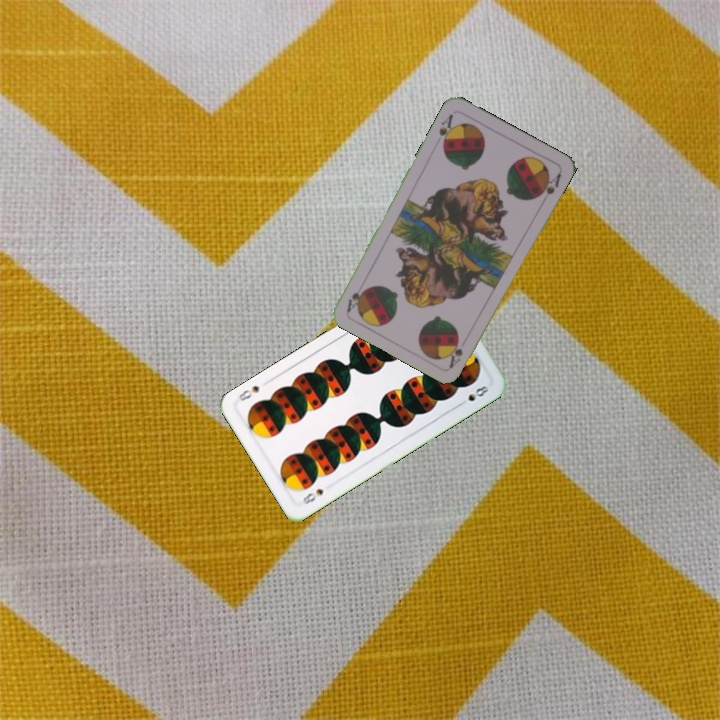S8: (299, 484, 326, 507)
SA: (435, 110, 458, 150), (445, 337, 465, 370)
